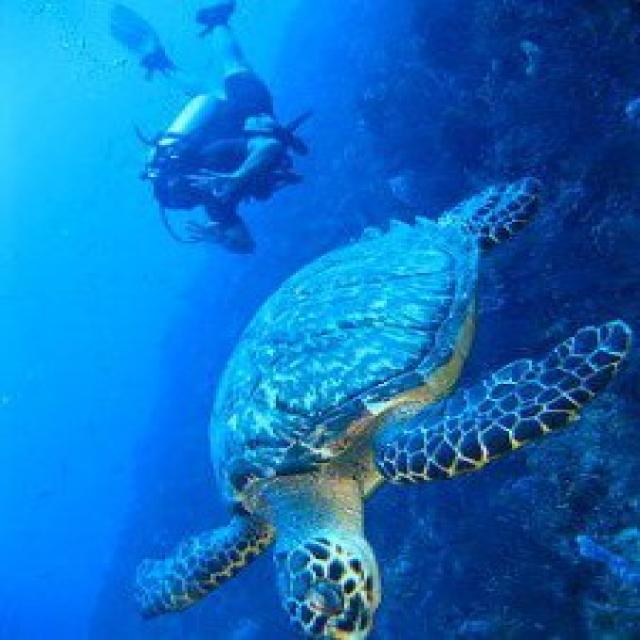Sea turtle: (113, 169, 630, 640)
